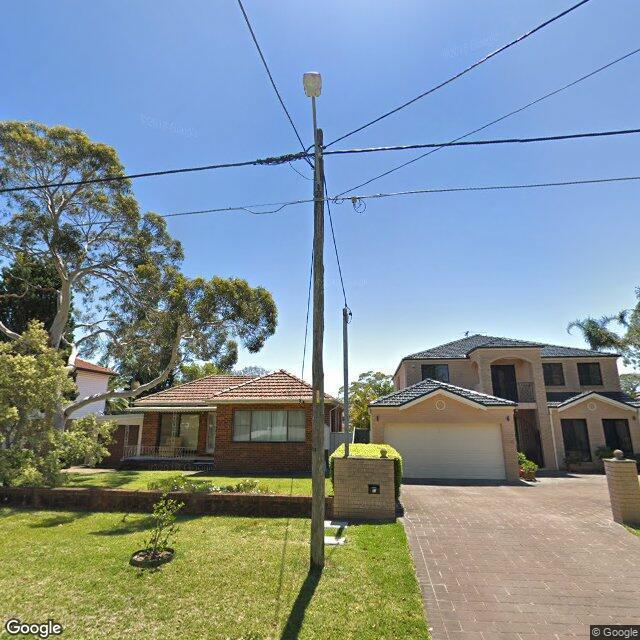steel-pole: (342, 308, 349, 456)
streetlight: (302, 71, 322, 193)
timber-pole: (311, 128, 325, 570)
